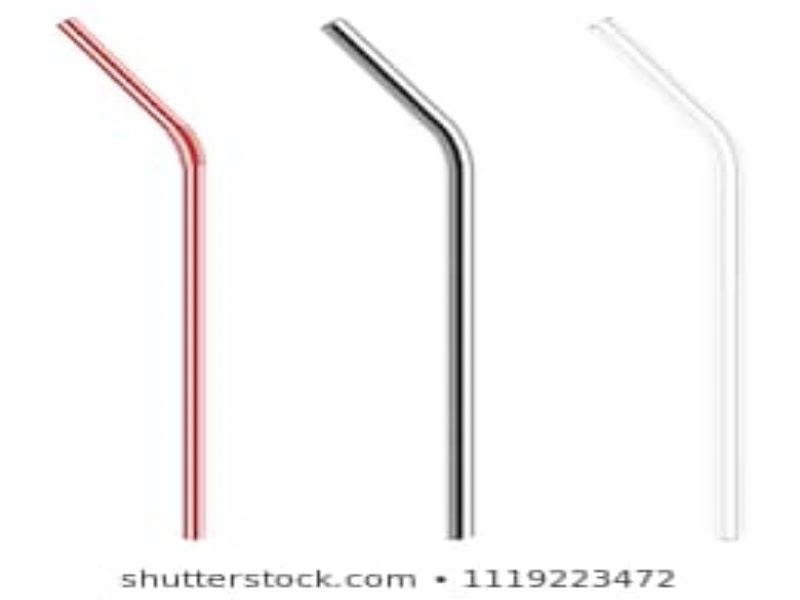straw: (51, 15, 212, 543), (316, 16, 477, 542), (585, 11, 741, 544)
